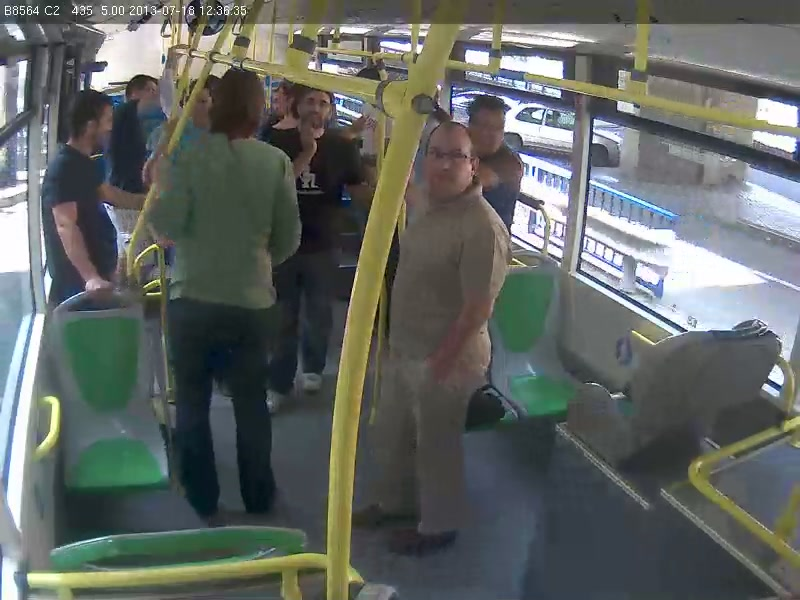Head: (421, 117, 483, 205), (56, 83, 116, 160), (211, 61, 264, 141), (466, 93, 513, 154), (182, 63, 224, 131), (296, 86, 334, 135), (123, 67, 164, 110), (272, 71, 300, 122)
